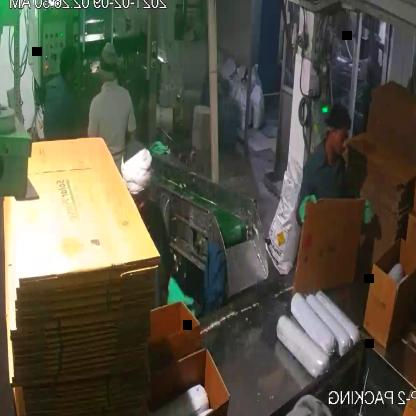glove: (163, 272, 198, 327), (294, 187, 322, 229), (350, 191, 374, 230)
